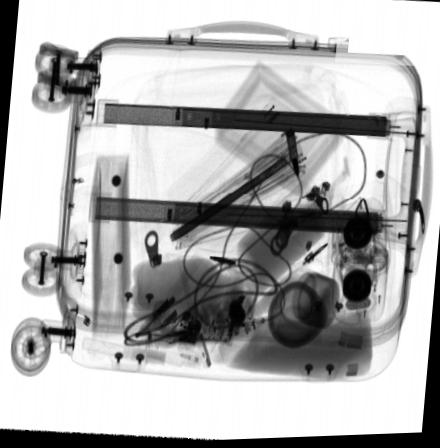Bullet: (283, 129, 298, 179)
